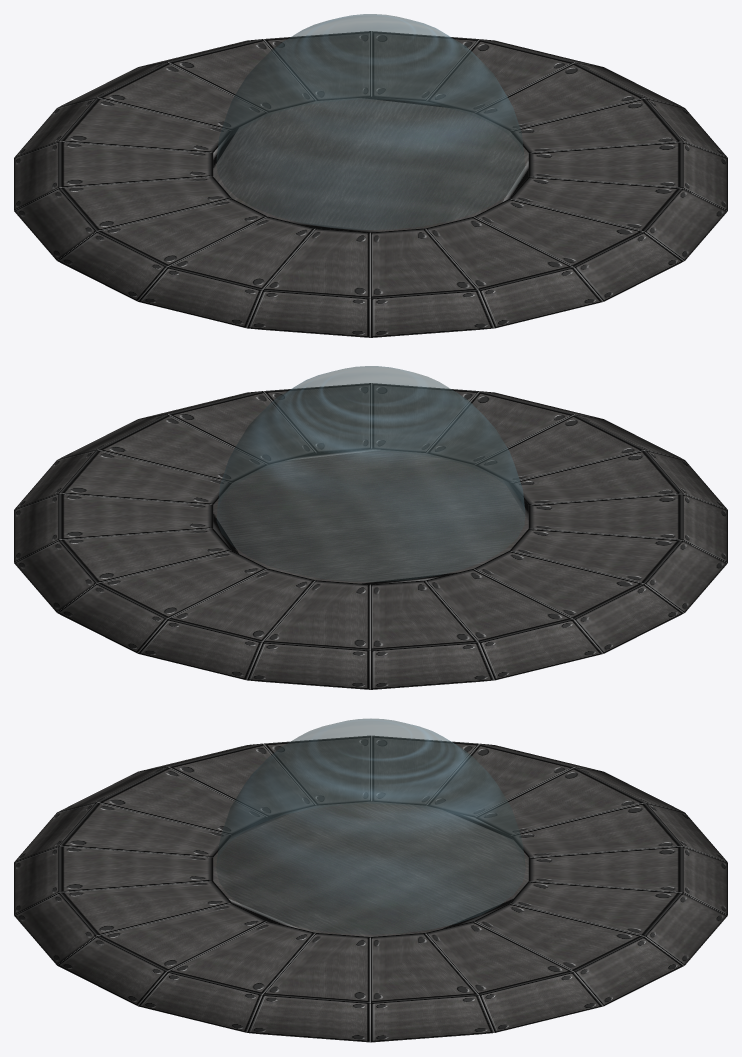
The model's file is CityAliens.FBX.
3 views of the same model, one above another, from view 1: azimuth 30°, elevation 25°; view 2: azimuth 150°, elevation 25°; view 3: azimuth 270°, elevation 25° (orthographic).
Parts seen in each view (by area): view 1: Cylinder003, Sphere013; view 2: Cylinder003, Sphere013; view 3: Cylinder003, Sphere013.
Part boxes in pixels (bbox=[...]): Cylinder003: bbox=[14, 31, 727, 337]; Sphere013: bbox=[216, 14, 524, 229]; Cylinder003: bbox=[14, 383, 727, 689]; Sphere013: bbox=[217, 366, 525, 581]; Cylinder003: bbox=[14, 735, 727, 1042]; Sphere013: bbox=[216, 718, 525, 934].
Size of the model in its own units: 96.37 by 30.85 by 94.9.
3 materials, 3 textured.
